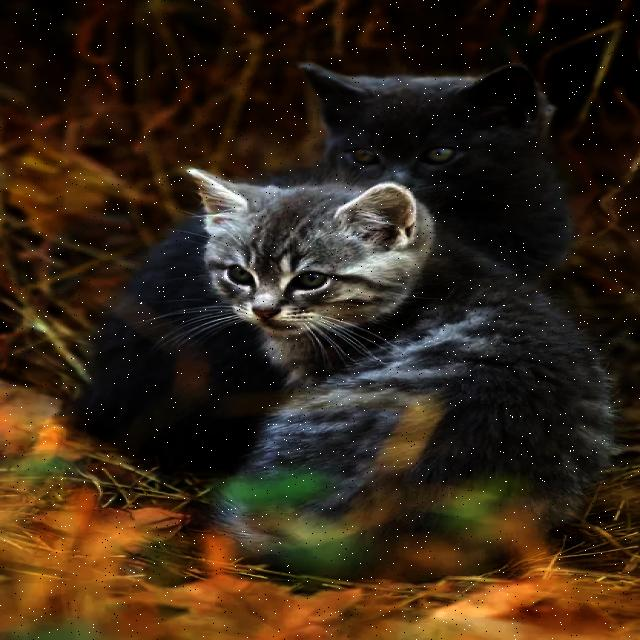cat: (191, 170, 614, 523), (271, 64, 571, 276), (77, 216, 282, 469)
